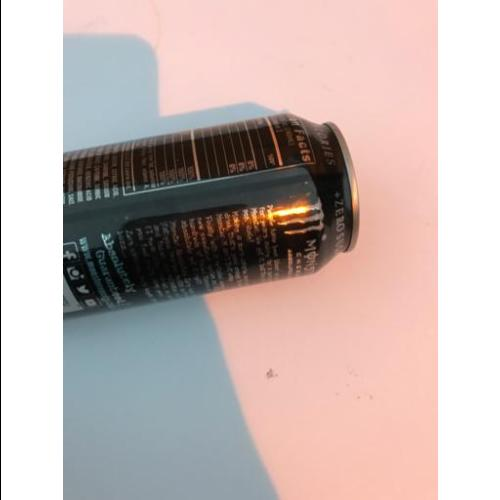metal: (64, 109, 362, 319)
